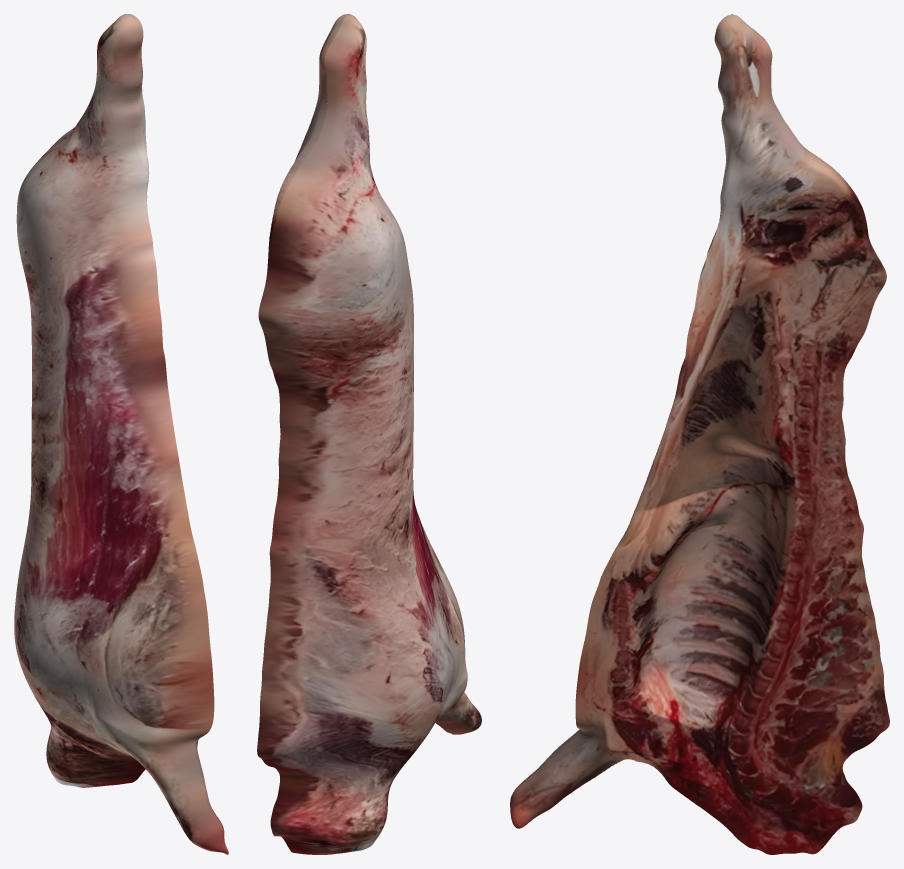
The model's file is demi_carcasse_boeuf_v20.glb.
The picture shows the model from 3 angles, left to right: view 1: azimuth 30°, elevation 25°; view 2: azimuth 150°, elevation 25°; view 3: azimuth 270°, elevation 25°; orthographic projection. The views are drawn at different scales.
Parts seen in each view (by area): view 1: face_exterieure, face_de_fente; view 2: face_exterieure, face_de_fente; view 3: face_de_fente, face_exterieure.
Boxes of the visible parts, x1,y1,x2,y2 form: face_exterieure: (14,14,228,854); face_de_fente: (126,14,228,853); face_exterieure: (257,14,481,854); face_de_fente: (268,14,452,734); face_de_fente: (510,15,889,854); face_exterieure: (513,14,882,792).
Bounding box in the file's own units: 0.4164 × 2.5 × 1.03.
2 materials, 2 textured.
